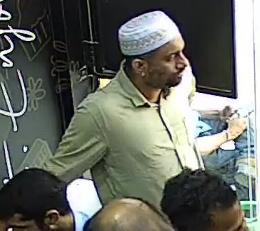no_apron: (90, 33, 205, 205)
